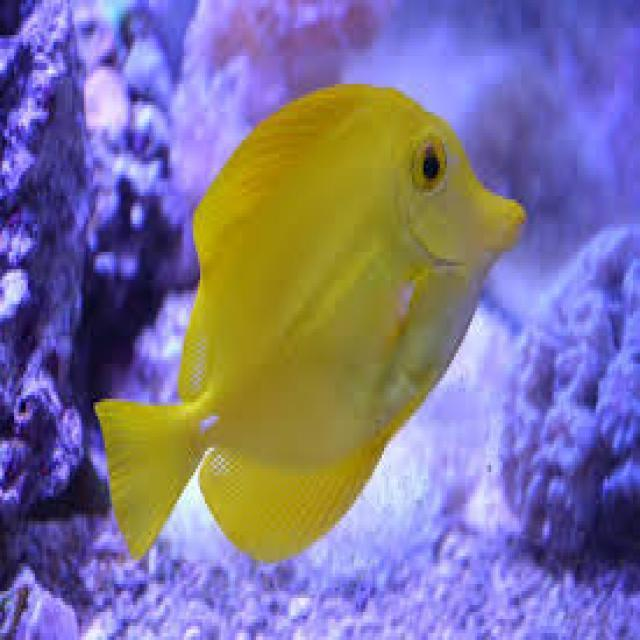TangFish: (90, 82, 524, 562)
